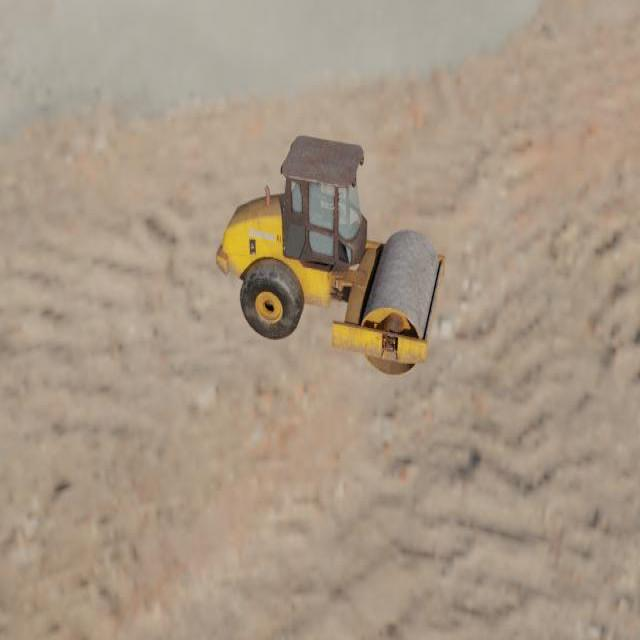Roller: (215, 135, 446, 376)
